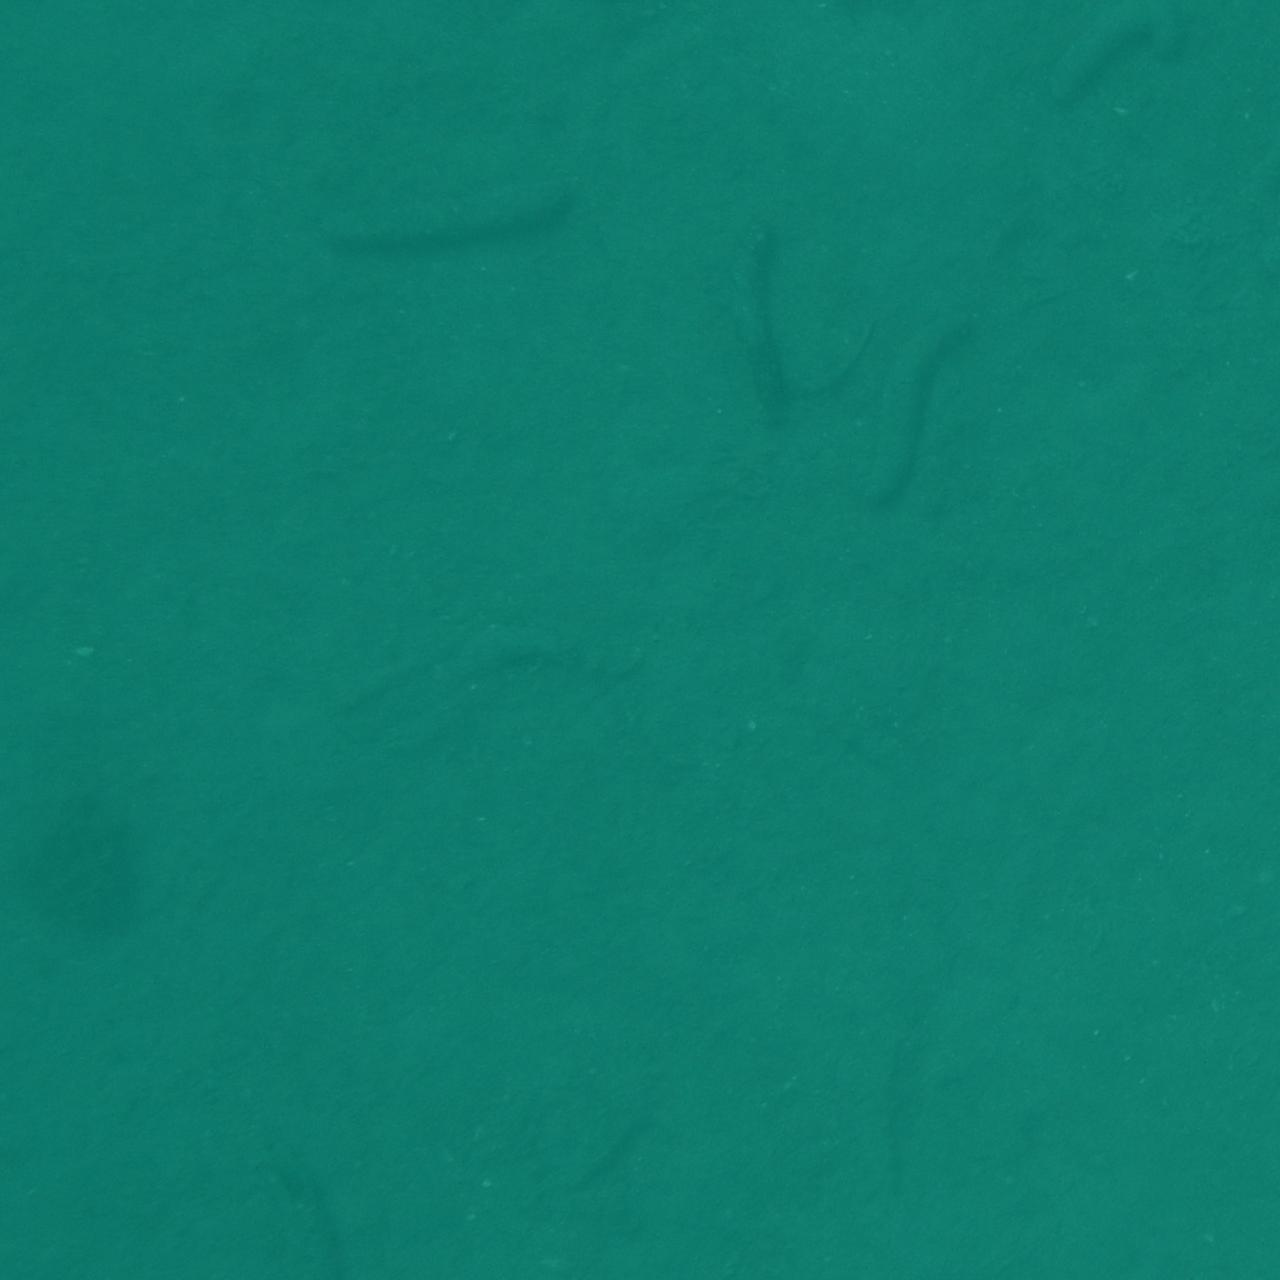Holothuria tubulosa: (839, 285, 999, 533), (335, 181, 585, 286), (434, 602, 656, 713), (245, 1104, 363, 1280), (0, 642, 156, 768), (1056, 0, 1216, 117), (750, 0, 953, 82), (933, 0, 1169, 69), (1189, 175, 1280, 335), (975, 0, 1126, 88), (0, 0, 111, 116), (846, 0, 1096, 50), (1167, 1118, 1280, 1228), (0, 0, 186, 66), (1124, 0, 1280, 74), (0, 0, 139, 80), (0, 0, 63, 171), (116, 0, 229, 91), (0, 1173, 96, 1280), (1212, 0, 1280, 134), (1175, 1198, 1280, 1280), (0, 1183, 87, 1280), (1207, 1167, 1280, 1280), (1194, 851, 1280, 941), (1175, 1238, 1280, 1280)
